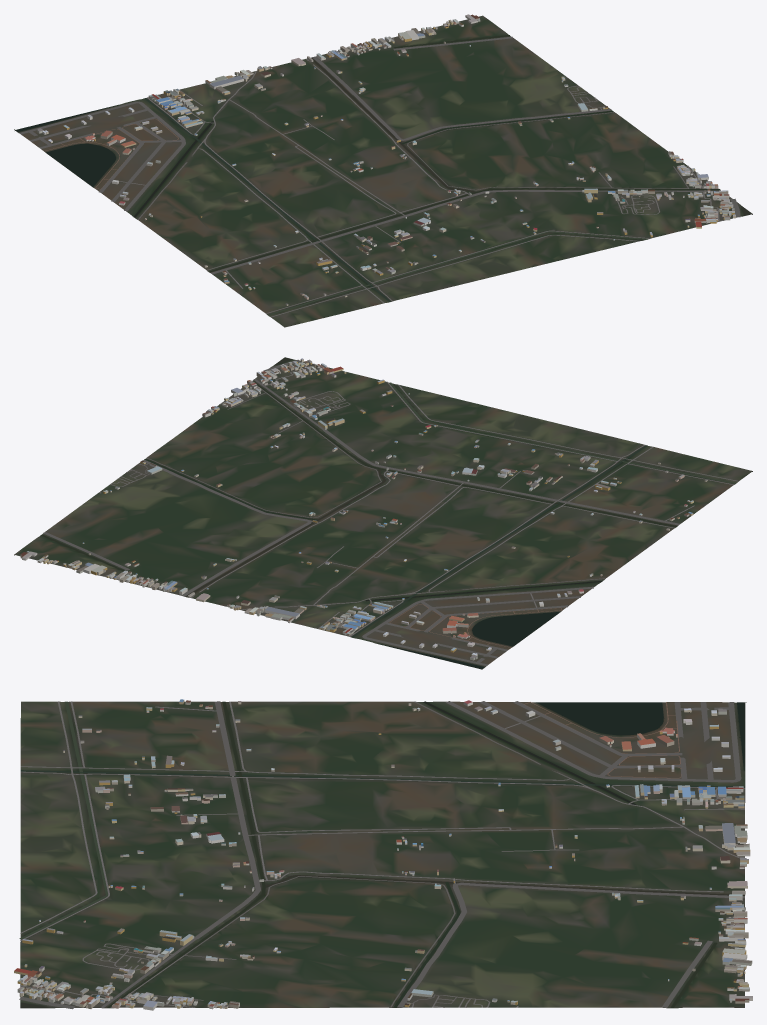
3 views of the same model, one above another, from view 1: azimuth 30°, elevation 25°; view 2: azimuth 150°, elevation 25°; view 3: azimuth 270°, elevation 25° (orthographic). The views are drawn at different scales.
Parts seen in each view (by area): view 1: ground, roads, buildings, water; view 2: ground, roads, buildings, water; view 3: ground, roads, buildings, water.
Part boxes in pixels (x1,y1,x2,y2): ground: (14,15,752,327); roads: (19,32,740,317); buildings: (37,14,735,305); water: (14,35,751,315); ground: (14,358,752,669); roads: (43,359,738,665); buildings: (20,358,707,660); water: (40,357,735,669); ground: (20,701,745,1008); roads: (19,701,745,1009); buildings: (14,699,752,1010); water: (19,701,746,1008).
Bounding box in the file's own units: 1415 × 14.31 × 1429.
